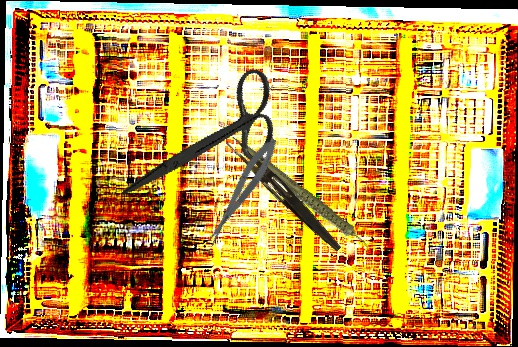Dressing Forceps: (222, 135, 347, 254)
Handpiece: (239, 124, 374, 277)
Iris Scissors: (122, 40, 296, 241)
Micro Scissor: (199, 134, 284, 249)
